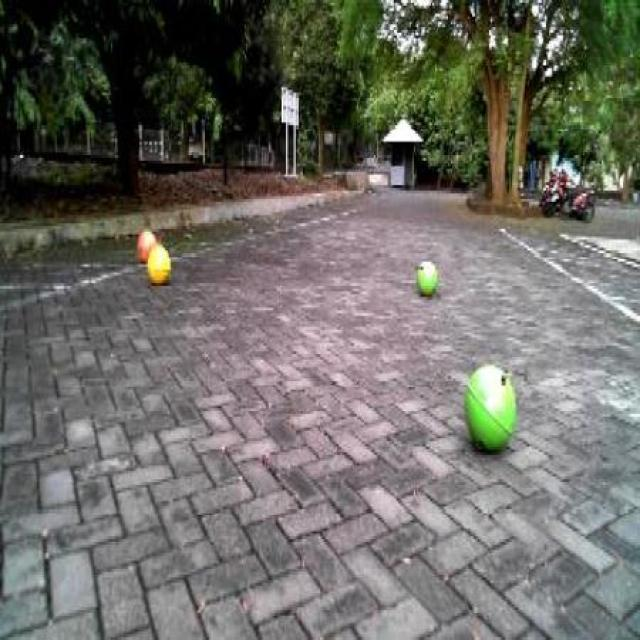buoy: (463, 357, 521, 458), (144, 238, 174, 288), (414, 253, 438, 300), (136, 222, 156, 260)
